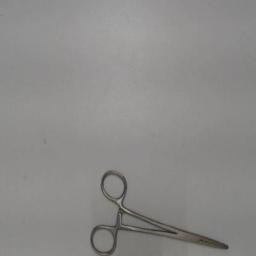Mayo Needle Holder: (86, 165, 234, 255)
